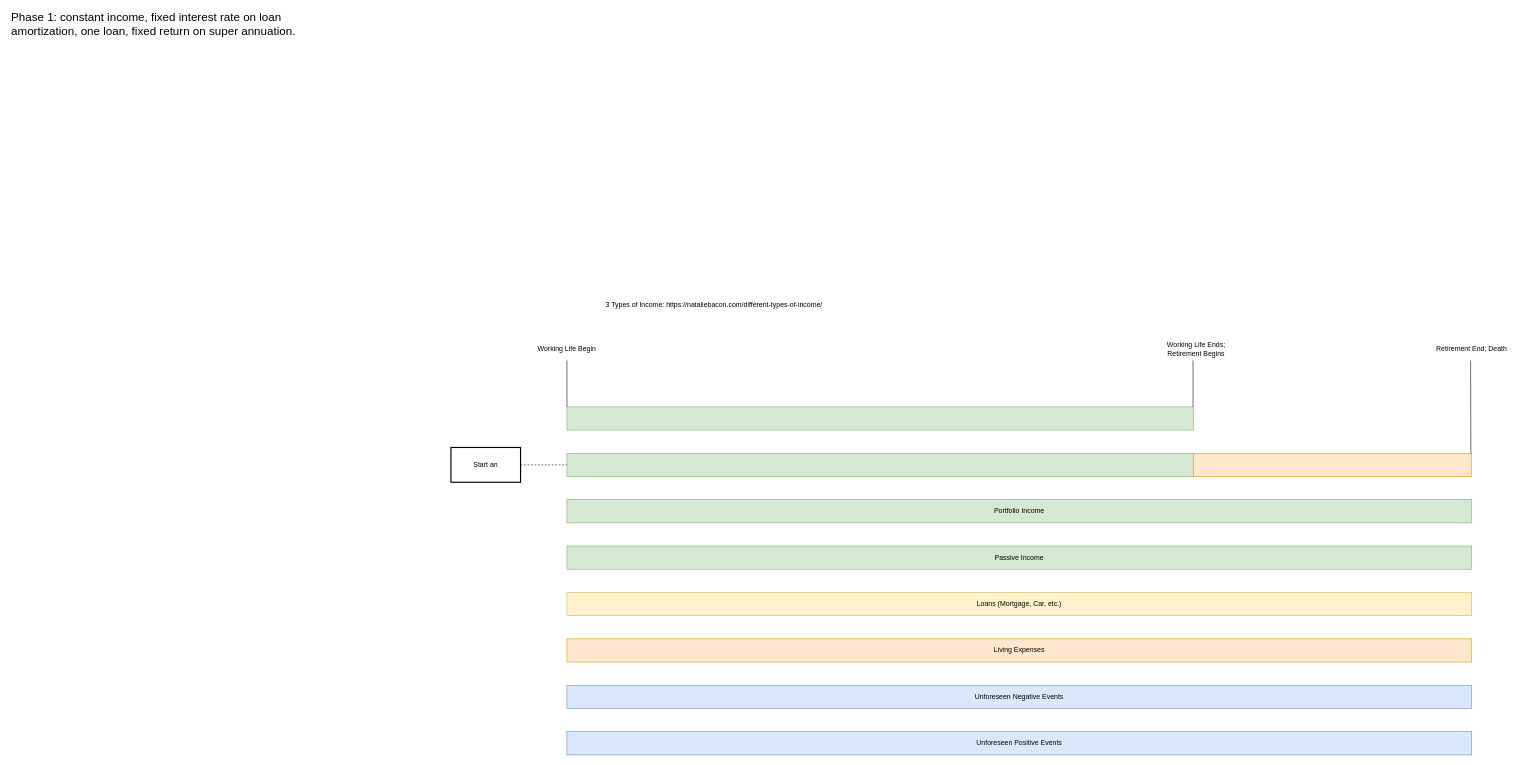
The diagram is 1519 pixels wide and 765 high, and some of its shapes have lost their labels. The centre of each missing label's shape, as x and y in pixels:
Earned (Active) Income: point (879, 418)
Super Annuation - Generation NOR Use Phase: point (1332, 464)
Super Annuation - Generation Phase: point (879, 464)
